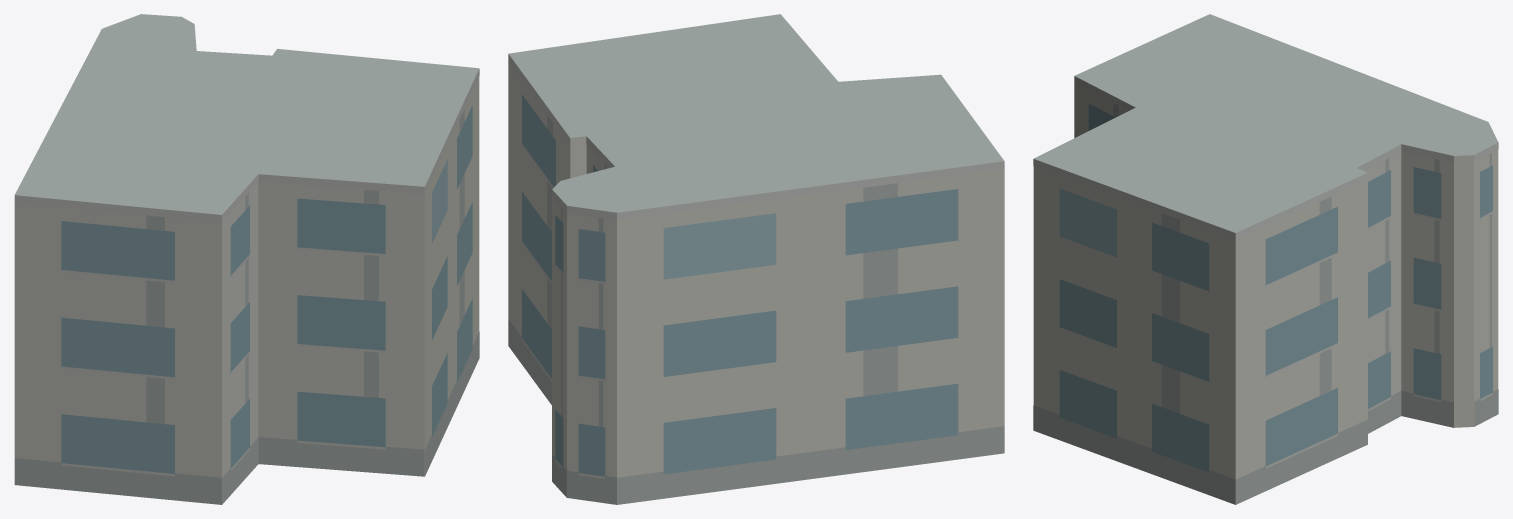
Rendered from survey-upis-32635942.glb.
3 renders of one model, left to right at view 1: azimuth 30°, elevation 25°; view 2: azimuth 150°, elevation 25°; view 3: azimuth 270°, elevation 25°, orthographic. The views are drawn at different scales.
Visible parts, largest first — view 1: survey-upis-32635942.tmp; view 2: survey-upis-32635942.tmp; view 3: survey-upis-32635942.tmp.
Boxes of the visible parts, x1,y1,x2,y2 form: survey-upis-32635942.tmp: (14,14,479,504); survey-upis-32635942.tmp: (508,14,1004,504); survey-upis-32635942.tmp: (1033,14,1498,504).
Bounding box in the file's own units: 15.82 × 9.15 × 14.19.
